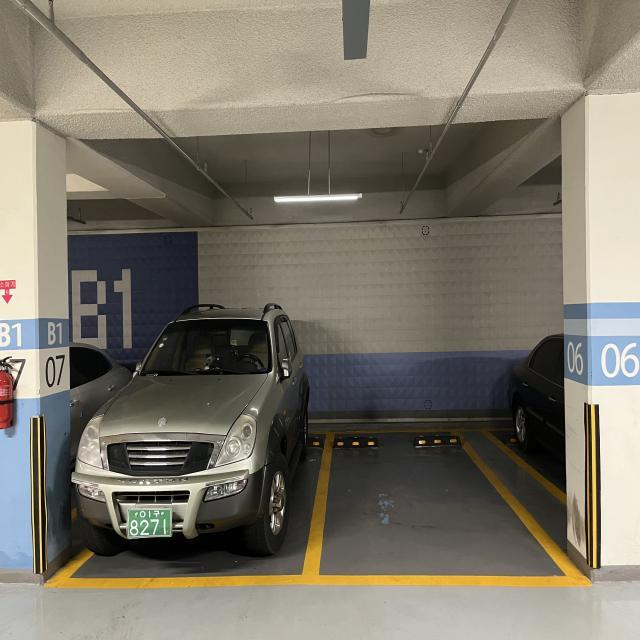empty: (315, 426, 580, 586)
occupied: (62, 294, 310, 591)
